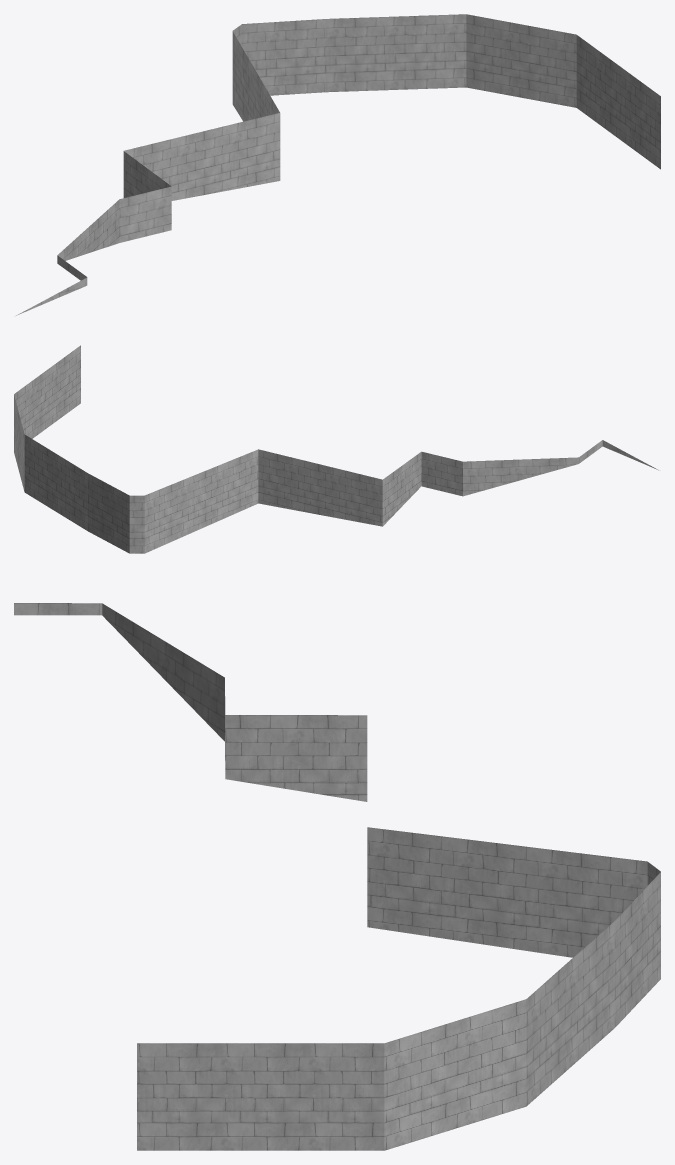
The model's file is SM_ConcreteWall_01b.fbx.
The picture shows the model from 3 angles, top to bottom: view 1: azimuth 30°, elevation 25°; view 2: azimuth 150°, elevation 25°; view 3: azimuth 270°, elevation 25°; orthographic projection. The views are drawn at different scales.
Visible parts, largest first — view 1: SM_ConcreteWall_01b; view 2: SM_ConcreteWall_01b; view 3: SM_ConcreteWall_01b.
Boxes of the visible parts, <box> form: SM_ConcreteWall_01b: <box>16,14,660,315</box>; SM_ConcreteWall_01b: <box>14,345,658,553</box>; SM_ConcreteWall_01b: <box>14,603,660,1150</box>.
Size of the model in its own units: 3299 by 336 by 1831.
